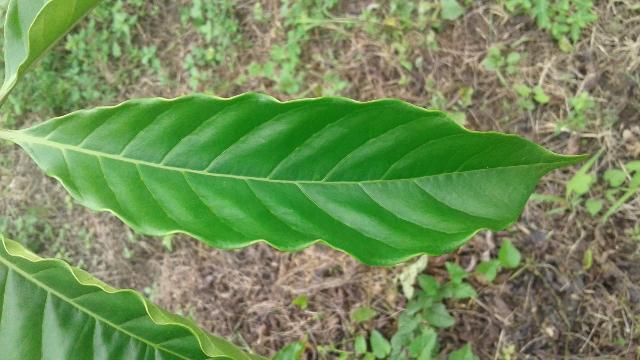healthy: (16, 98, 590, 265)
